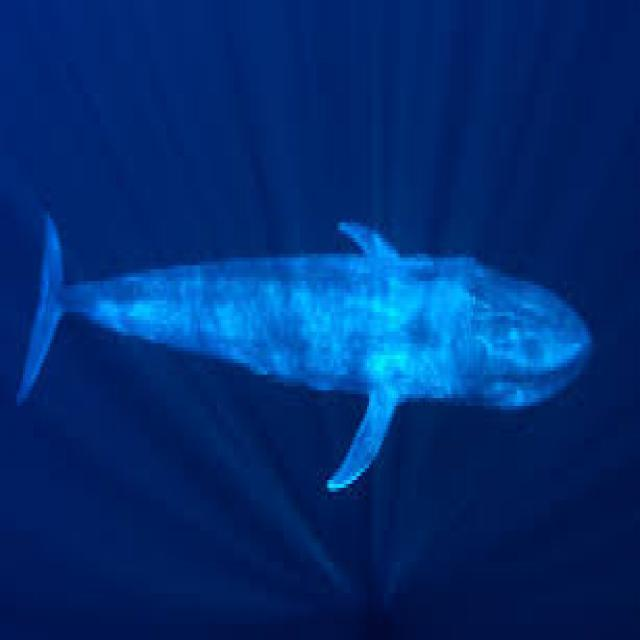blue_whale: (12, 168, 596, 562)
